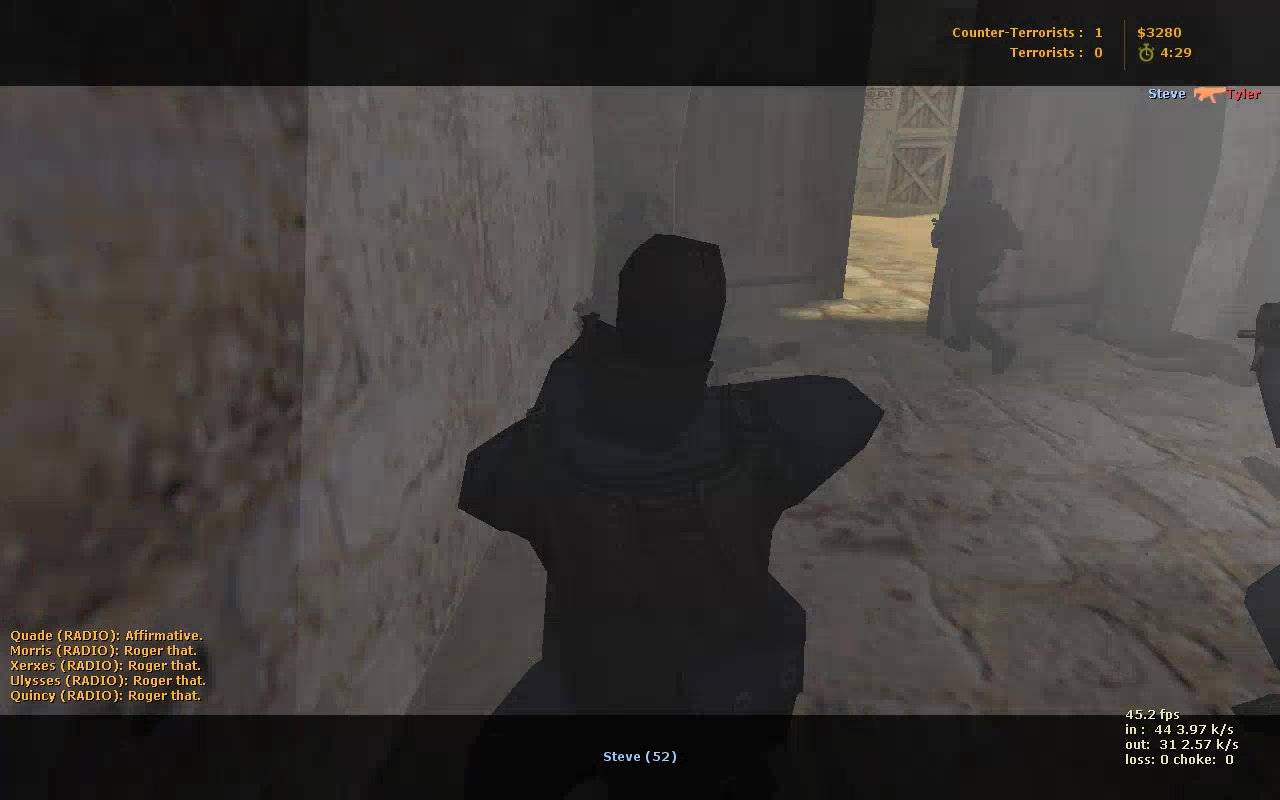ct: (449, 229, 891, 746), (926, 171, 1029, 370)
